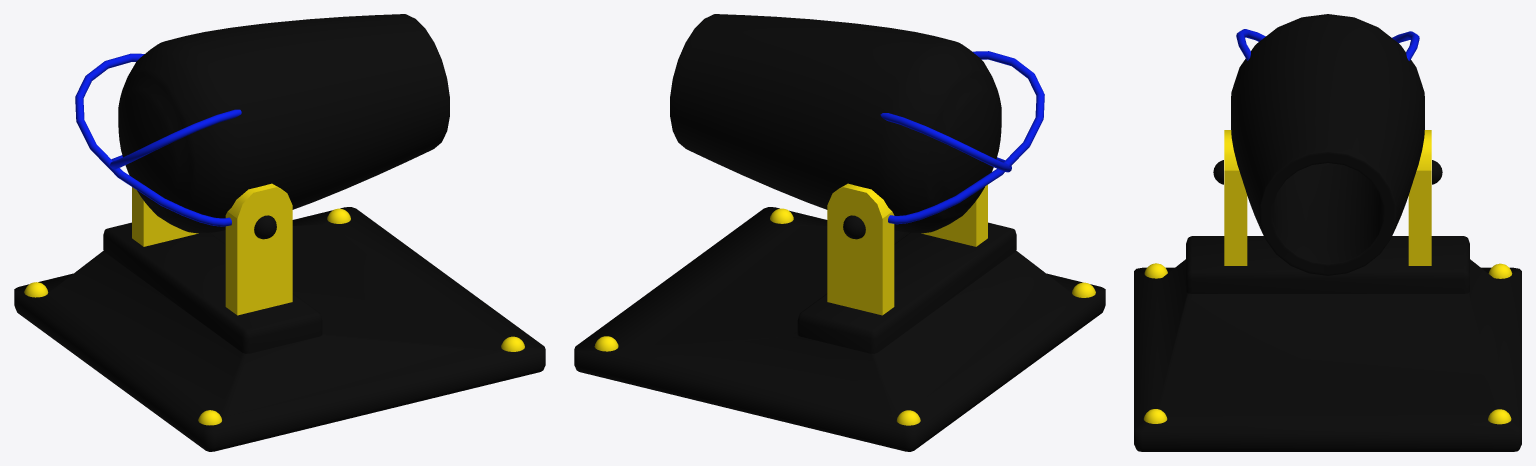
Rendered from Tanker1.FBX.
3 views of the same model, side by side, from view 1: azimuth 30°, elevation 25°; view 2: azimuth 150°, elevation 25°; view 3: azimuth 270°, elevation 25° (orthographic).
Parts seen in each view (by area): view 1: ChamferBox001, Capsule001, Sphere003, Line002; view 2: ChamferBox001, Capsule001, Sphere003, Line002; view 3: ChamferBox001, Capsule001, Sphere003, Line002.
Part boxes in pixels (x1,y1,x2,y2): ChamferBox001: (14, 207, 545, 451); Capsule001: (118, 14, 449, 233); Sphere003: (24, 183, 524, 425); Line002: (75, 53, 241, 226); ChamferBox001: (574, 207, 1105, 451); Capsule001: (670, 14, 1001, 233); Sphere003: (594, 183, 1095, 425); Line002: (880, 51, 1044, 224); ChamferBox001: (1134, 160, 1521, 451); Capsule001: (1231, 14, 1424, 275); Sphere003: (1144, 130, 1512, 424); Line002: (1236, 29, 1419, 60).
Size of the model in its own units: 40 by 34.99 by 39.24.
